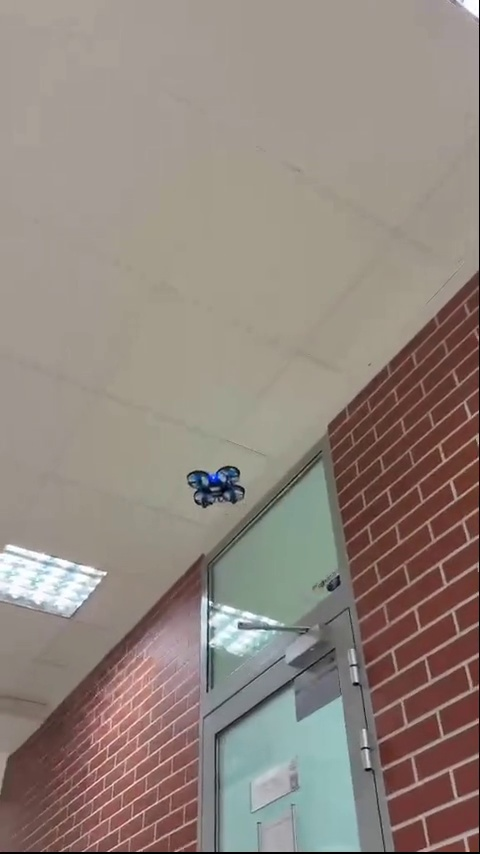drone: (188, 467, 245, 505)
